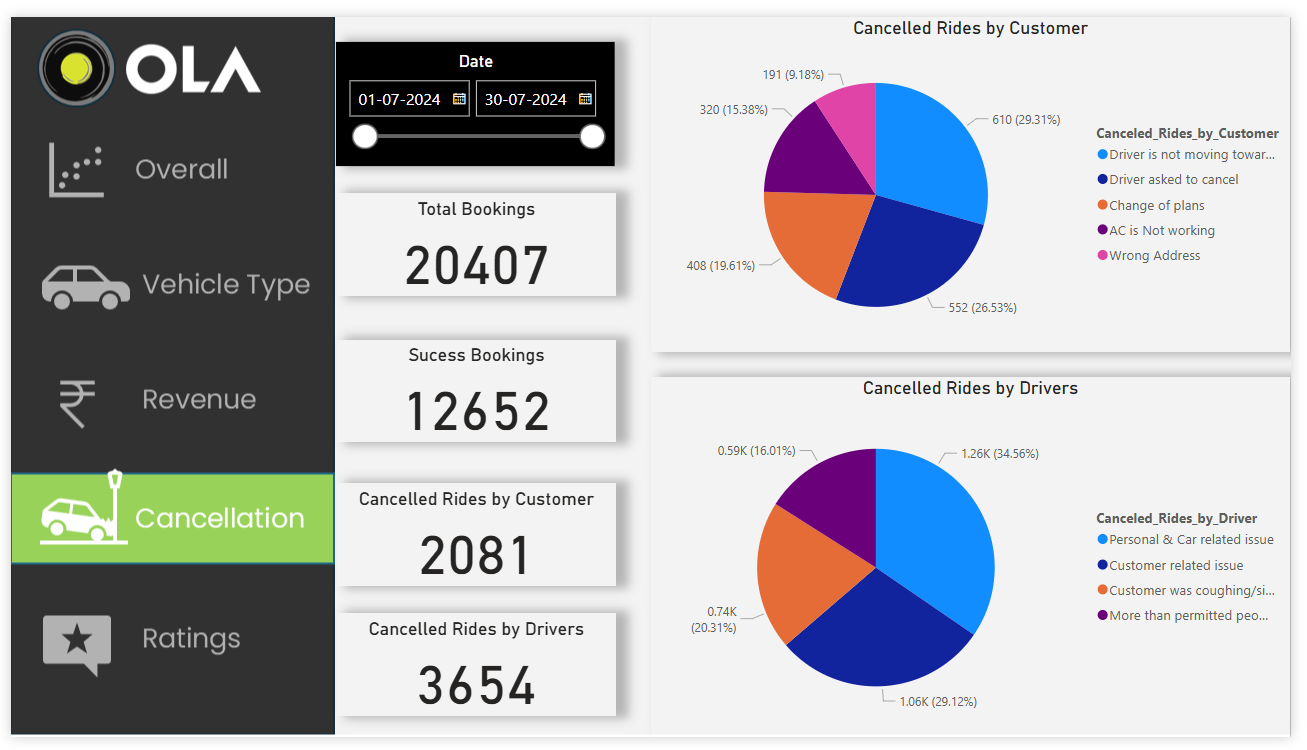

Layout of this report page (visuals, bound fields, positions):
{"tool":"powerbi","page":{"name":"Cancellation","canvas":[1280,720],"ordinal":3},"visuals":[{"type":"actionButton","box":[0,335.4,325.3,89.9],"z":0},{"type":"actionButton","box":[0,581,325.3,89.9],"z":1000},{"type":"actionButton","box":[0,226.6,325.3,89.9],"z":2000},{"type":"actionButton","box":[0,103.8,325.3,89.9],"z":3000},{"type":"pieChart","title":"Cancelled Rides by Customer","fields":{"Category":["July.Canceled_Rides_by_Customer"],"Y":["CountNonNull(July.Canceled_Rides_by_Customer)"]},"box":[640.5,0,639.2,335.4],"z":4000},{"type":"pieChart","title":"Cancelled Rides by Drivers","fields":{"Category":["July.Canceled_Rides_by_Driver"],"Y":["CountNonNull(July.Canceled_Rides_by_Driver)"]},"box":[640.5,359.5,639.2,360.8],"z":5000},{"type":"slicer","title":"Date","fields":{"Values":["July.Date"]},"box":[325.3,25.3,278.5,124.1],"z":6000},{"type":"card","title":"Total Bookings","fields":{"Values":["CountNonNull(July.Booking_ID)"]},"box":[326.6,175.9,278.5,102.5],"z":7000},{"type":"card","title":"Sucess Bookings","fields":{"Values":["CountNonNull(July.Booking_ID)"]},"box":[326.6,322.8,278.5,102.5],"z":8000},{"type":"card","title":"Cancelled Rides by Customer","fields":{"Values":["CountNonNull(July.Booking_ID)"]},"box":[326.6,465.8,278.5,102.5],"z":9000},{"type":"card","title":"Cancelled Rides by Drivers","fields":{"Values":["CountNonNull(July.Booking_ID)"]},"box":[326.6,596.2,278.5,102.5],"z":10000}]}

Visuals, with their boxes in screenshot pixels (x1, y1, x2, y2), scaled from the page's 1280x720 canvas onto the 1307x750 screenshot:
actionButton: locate(0, 349, 332, 443)
actionButton: locate(0, 605, 332, 699)
actionButton: locate(0, 236, 332, 330)
actionButton: locate(0, 108, 332, 202)
"Cancelled Rides by Customer" pieChart: locate(654, 0, 1306, 349)
"Cancelled Rides by Drivers" pieChart: locate(654, 374, 1306, 749)
"Date" slicer: locate(332, 26, 617, 156)
"Total Bookings" card: locate(333, 183, 618, 290)
"Sucess Bookings" card: locate(333, 336, 618, 443)
"Cancelled Rides by Customer" card: locate(333, 485, 618, 592)
"Cancelled Rides by Drivers" card: locate(333, 621, 618, 728)
